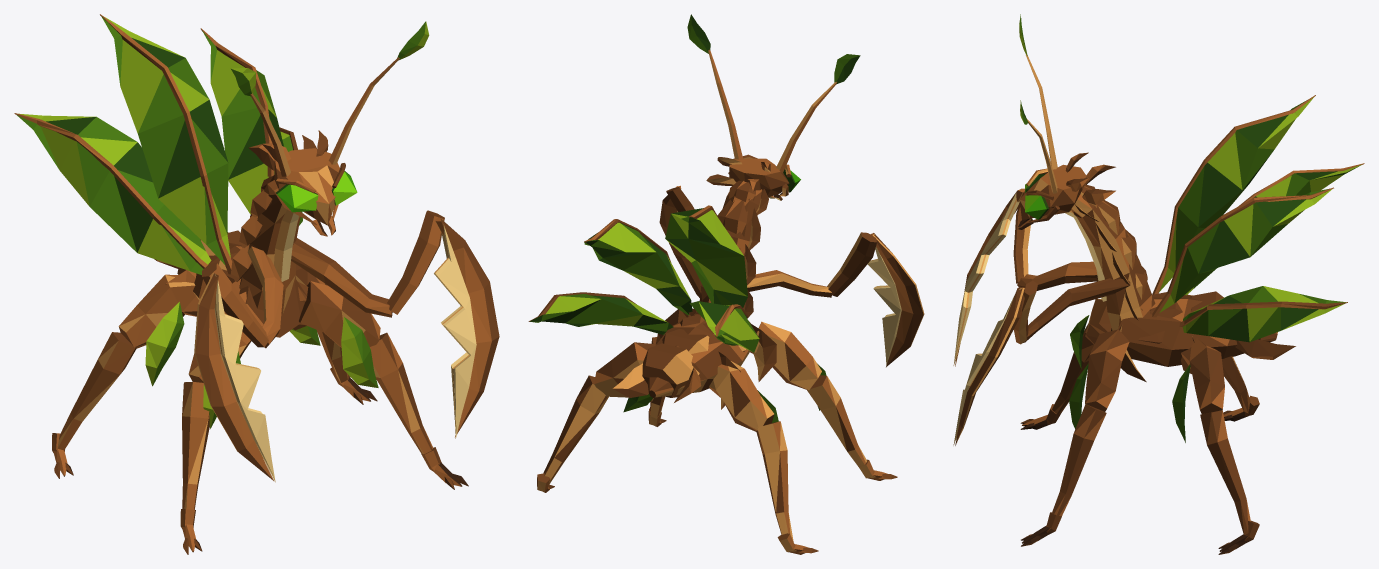
File: mantis-study-complete-character-pass.glb
The picture shows the model from 3 angles, left to right: view 1: azimuth 30°, elevation 25°; view 2: azimuth 150°, elevation 25°; view 3: azimuth 270°, elevation 25°; orthographic projection. The views are drawn at different scales.
Visible parts, largest first — view 1: Leaf wing wing-1_0, Leaf wing wing-1_1, Leaf wing wing1_0, Swept bevelled wood sickle -1, Swept bevelled wood sickle 1, Bevelled continuous ivory teeth 1, Bevelled continuous ivory teeth -1, Walking tibia leg1_0, Walking femur leg1_0, Walking femur leg-1_1, Walking tibia leg-1_0, Walking tibia leg-1_1 (+17 smaller); view 2: Leaf wing wing-1_0, Leaf wing wing1_0, Leaf wing wing1_1, Walking femur leg-1_1, Abdomen core, Walking tibia leg-1_1, Swept bevelled wood sickle -1, Walking tibia leg1_1, Walking femur leg-1_0, Walking tibia leg-1_0, Abdominal tergite 2, Leaf wing wing-1_1 (+14 smaller); view 3: Leaf wing wing-1_0, Leaf wing wing1_0, Leaf wing wing1_1, Abdomen core, Rising prothorax curved cervical arch, Walking femur leg1_0, Walking femur leg1_1, Walking tibia leg1_1, Walking tibia leg1_0, Raptorial upper arm 1, Swept bevelled wood sickle 1, Bevelled continuous ivory teeth -1 (+17 smaller).
Boxes of the visible parts, x1=… form: Leaf wing wing-1_0: x1=101, y1=16, x2=230, y2=265; Leaf wing wing-1_1: x1=17, y1=113, x2=211, y2=274; Leaf wing wing1_0: x1=202, y1=31, x2=283, y2=214; Swept bevelled wood sickle -1: x1=194, y1=272, x2=273, y2=480; Swept bevelled wood sickle 1: x1=435, y1=217, x2=499, y2=437; Bevelled continuous ivory teeth 1: x1=434, y1=219, x2=476, y2=438; Bevelled continuous ivory teeth -1: x1=214, y1=273, x2=275, y2=482; Walking tibia leg1_0: x1=370, y1=332, x2=433, y2=454; Walking femur leg1_0: x1=299, y1=281, x2=380, y2=347; Walking femur leg-1_1: x1=118, y1=274, x2=199, y2=348; Walking tibia leg-1_0: x1=182, y1=382, x2=209, y2=509; Walking tibia leg-1_1: x1=57, y1=332, x2=136, y2=450; Leaf wing wing-1_0: x1=665, y1=208, x2=747, y2=307; Leaf wing wing1_0: x1=584, y1=222, x2=692, y2=315; Leaf wing wing1_1: x1=530, y1=294, x2=673, y2=334; Walking femur leg-1_1: x1=709, y1=361, x2=774, y2=431; Abdomen core: x1=647, y1=313, x2=750, y2=397; Walking tibia leg-1_1: x1=756, y1=421, x2=793, y2=541; Swept bevelled wood sickle -1: x1=870, y1=233, x2=924, y2=366; Walking tibia leg1_1: x1=543, y1=375, x2=608, y2=485; Walking femur leg-1_0: x1=750, y1=321, x2=821, y2=389; Walking tibia leg-1_0: x1=806, y1=375, x2=866, y2=466; Abdominal tergite 2: x1=642, y1=343, x2=699, y2=397; Leaf wing wing-1_1: x1=689, y1=301, x2=759, y2=352; Leaf wing wing-1_0: x1=1159, y1=97, x2=1313, y2=291; Leaf wing wing1_0: x1=1159, y1=188, x2=1332, y2=312; Leaf wing wing1_1: x1=1182, y1=286, x2=1345, y2=342; Abdomen core: x1=1111, y1=294, x2=1277, y2=366; Rising prothorax curved cervical arch: x1=1070, y1=194, x2=1155, y2=330; Walking femur leg1_0: x1=1085, y1=329, x2=1129, y2=411; Walking femur leg1_1: x1=1181, y1=338, x2=1224, y2=414; Walking tibia leg1_1: x1=1200, y1=410, x2=1250, y2=533; Walking tibia leg1_0: x1=1052, y1=404, x2=1106, y2=516; Raptorial upper arm 1: x1=1023, y1=278, x2=1130, y2=342; Swept bevelled wood sickle 1: x1=955, y1=287, x2=1024, y2=445; Bevelled continuous ivory teeth -1: x1=953, y1=188, x2=1021, y2=365.
Bounding box in the file's own units: 2.73 × 3.9 × 3.39.
